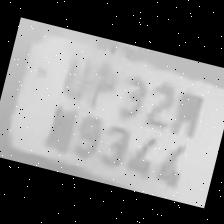2: (137, 74, 180, 134)
3: (108, 64, 150, 121), (94, 114, 134, 169)
4: (148, 128, 192, 187), (123, 122, 163, 176)
5: (66, 105, 104, 159)
P: (81, 54, 119, 108)
U: (52, 47, 94, 102)
